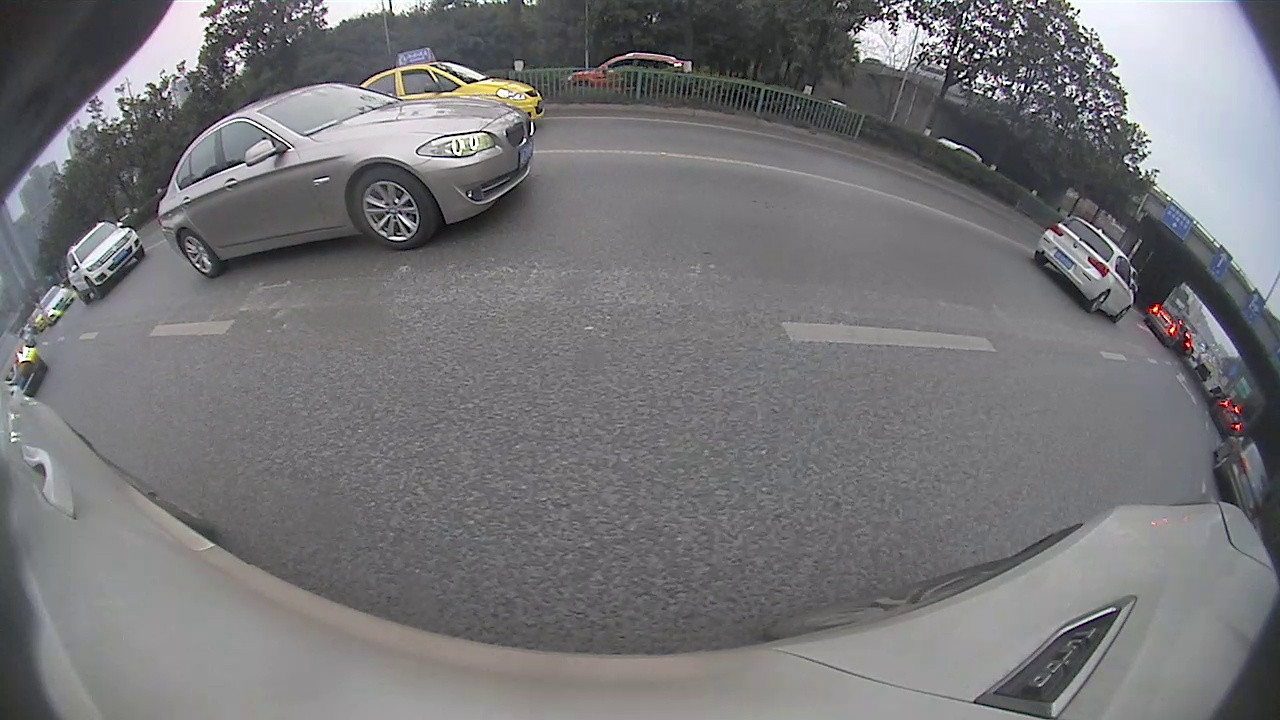car: (157, 81, 533, 280), (354, 45, 546, 124), (1033, 215, 1137, 323), (61, 220, 145, 304), (1215, 433, 1271, 519), (1, 328, 47, 398), (1144, 301, 1180, 349), (39, 284, 77, 325)
front: (351, 163, 439, 252)
rear: (177, 229, 223, 279), (1086, 289, 1110, 315)
